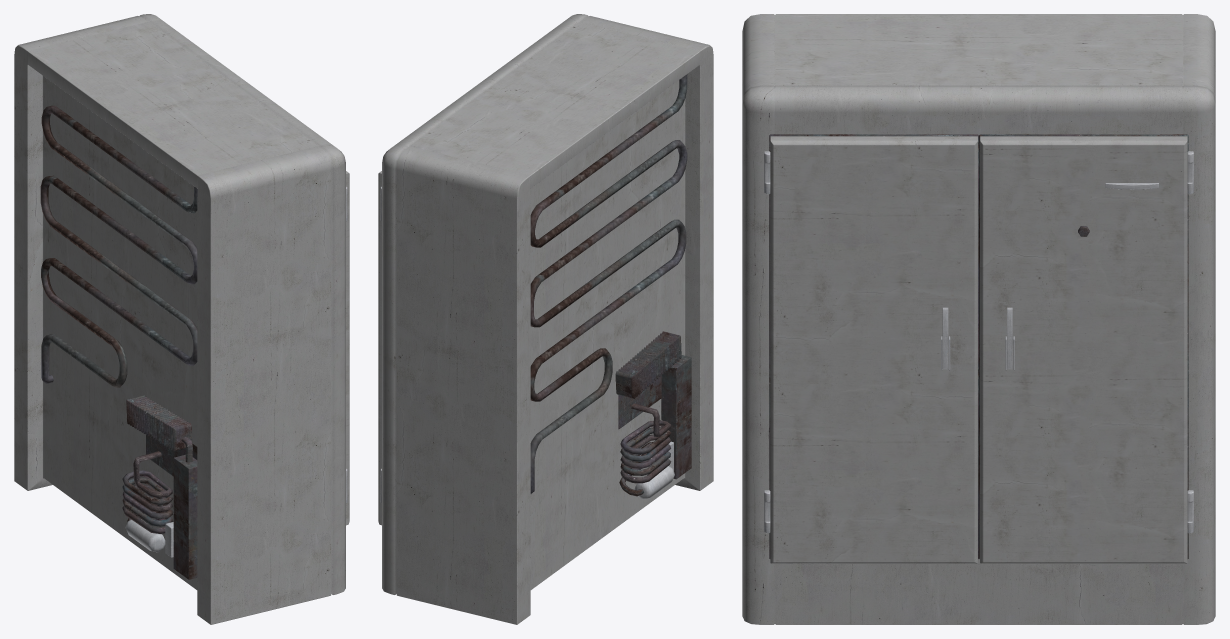
Rendered from SM_Refrigerator.FBX.
The picture shows the model from 3 angles, left to right: view 1: azimuth 30°, elevation 25°; view 2: azimuth 150°, elevation 25°; view 3: azimuth 270°, elevation 25°; orthographic projection. The views are drawn at different scales.
Visible parts, largest first — view 1: SM_Refrigerator_LOD0; view 2: SM_Refrigerator_LOD0; view 3: SM_Refrigerator_LOD0.
Boxes of the visible parts, x1,y1,x2,y2 form: SM_Refrigerator_LOD0: (14,14,349,624); SM_Refrigerator_LOD0: (378,14,713,624); SM_Refrigerator_LOD0: (742,14,1215,624).
Size of what is drawn, in the model's own units: 85.09 by 210 by 170.
